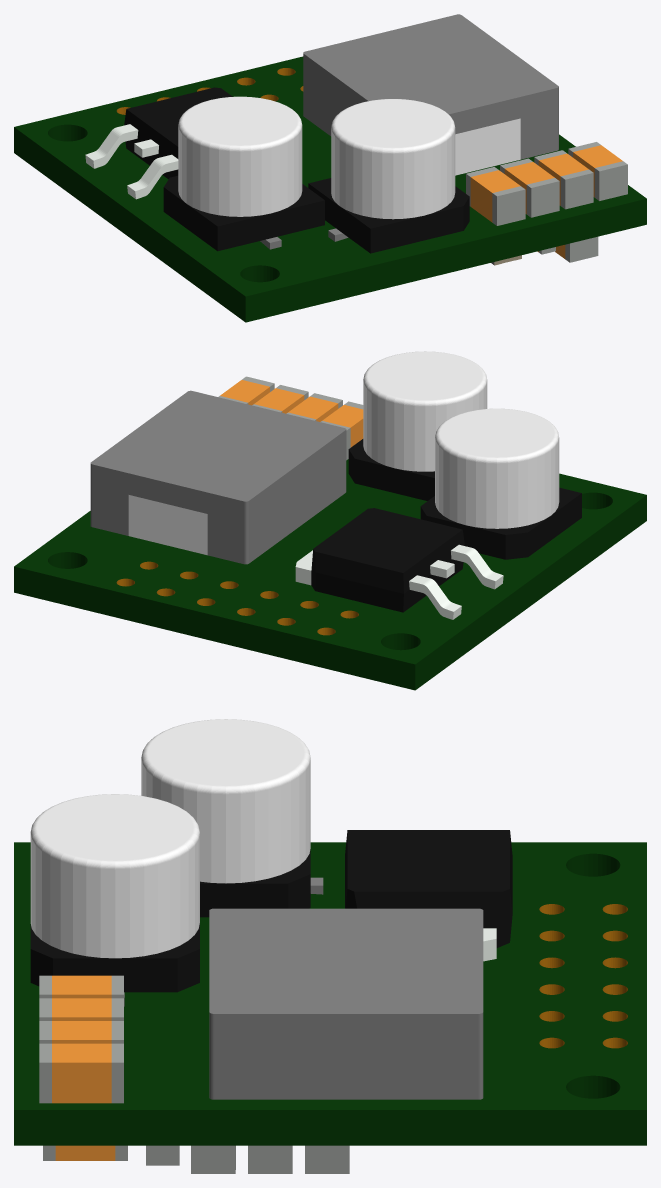
File: pololu-d36v50f5.glb
The picture shows the model from 3 angles, top to bottom: view 1: azimuth 30°, elevation 25°; view 2: azimuth 150°, elevation 25°; view 3: azimuth 270°, elevation 25°; orthographic projection. The views are drawn at different scales.
Visible parts, largest first — view 1: pololu-d36v50f5; view 2: pololu-d36v50f5; view 3: pololu-d36v50f5.
Boxes of the visible parts, x1,y1,x2,y2 form: pololu-d36v50f5: (14, 14, 646, 322); pololu-d36v50f5: (14, 351, 646, 690); pololu-d36v50f5: (14, 719, 646, 1173).
Size of the model in its own units: 25.4 by 9.47 by 25.4.
